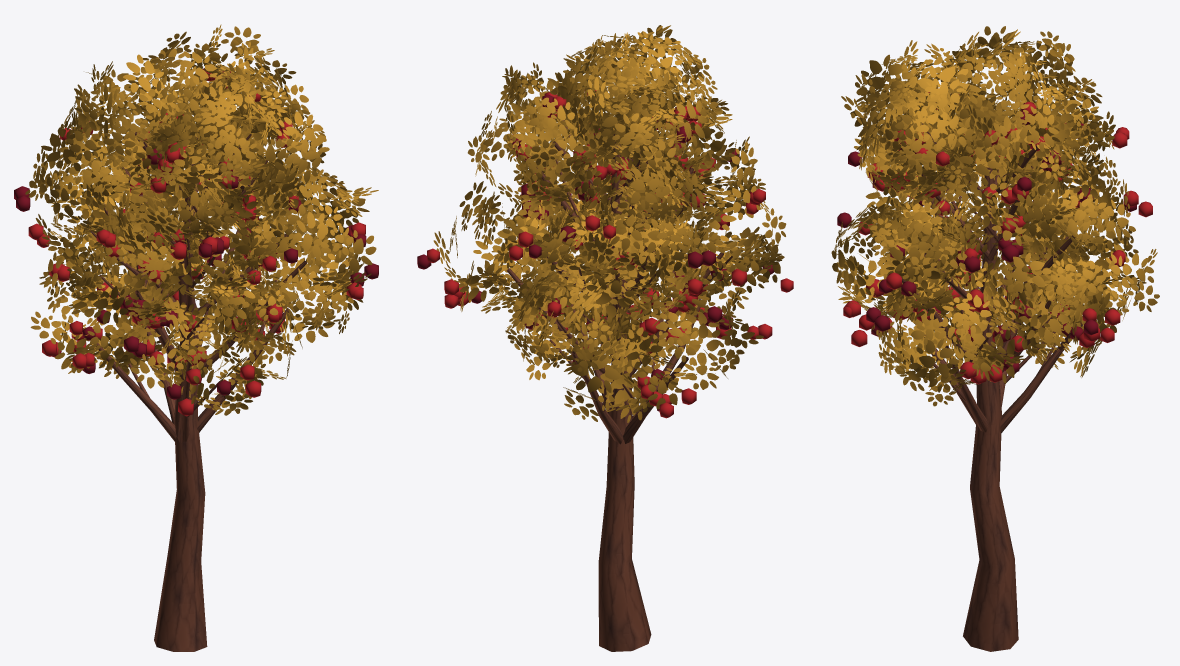
The model's file is fruit_tree_fruits_autumn.gltf.
3 renders of one model, left to right at view 1: azimuth 30°, elevation 25°; view 2: azimuth 150°, elevation 25°; view 3: azimuth 270°, elevation 25°, orthographic. The views are drawn at different scales.
Parts seen in each view (by area): view 1: fruit_tree_fruits_autumn; view 2: fruit_tree_fruits_autumn; view 3: fruit_tree_fruits_autumn.
Boxes of the visible parts, left/top/right/bottom form: fruit_tree_fruits_autumn: left=14, top=24, right=378, bottom=651; fruit_tree_fruits_autumn: left=417, top=25, right=793, bottom=651; fruit_tree_fruits_autumn: left=831, top=26, right=1159, bottom=651.
Size of the model in its own units: 5.18 by 9.42 by 4.74.
Materials: 4 (2 with a texture image).
